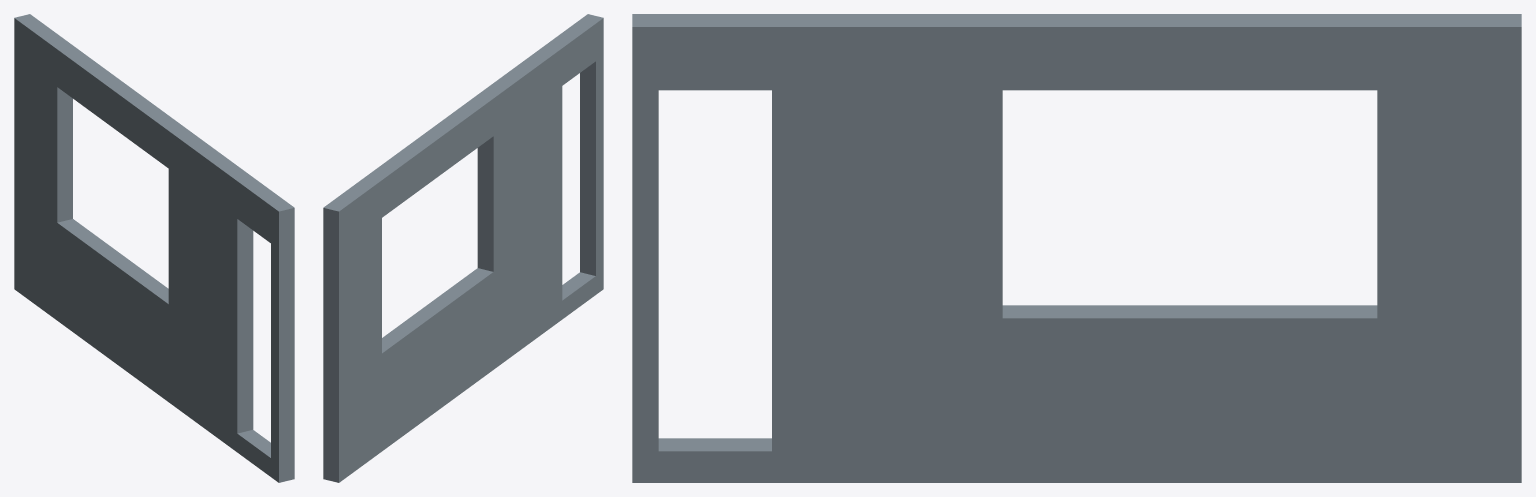
The model's file is porte et 1 fenetre.FBX.
The picture shows the model from 3 angles, left to right: view 1: azimuth 30°, elevation 25°; view 2: azimuth 150°, elevation 25°; view 3: azimuth 270°, elevation 25°; orthographic projection. The views are drawn at different scales.
Visible parts, largest first — view 1: Rectangle18; view 2: Rectangle18; view 3: Rectangle18.
Boxes of the visible parts, box(x1,y1,x2,y2) form: Rectangle18: box(14, 14, 294, 482); Rectangle18: box(323, 14, 603, 482); Rectangle18: box(632, 14, 1521, 482).
Size of the model in its own units: 559 by 9144 by 16167.
